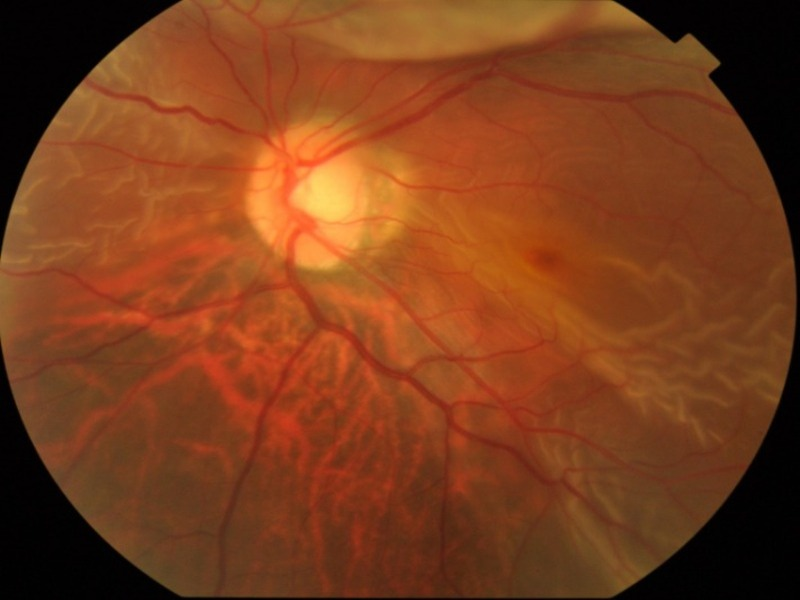Optic Cup: (292, 165, 350, 222)
Optic Disc: (244, 118, 371, 270)
